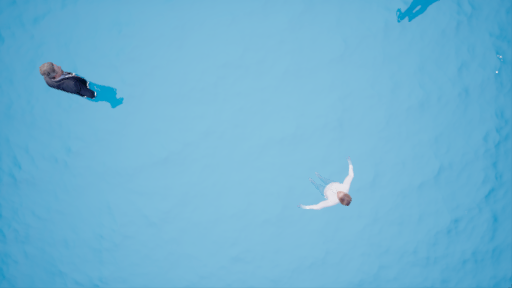person: (36, 57, 125, 114), (278, 159, 362, 213), (389, 2, 449, 27)
